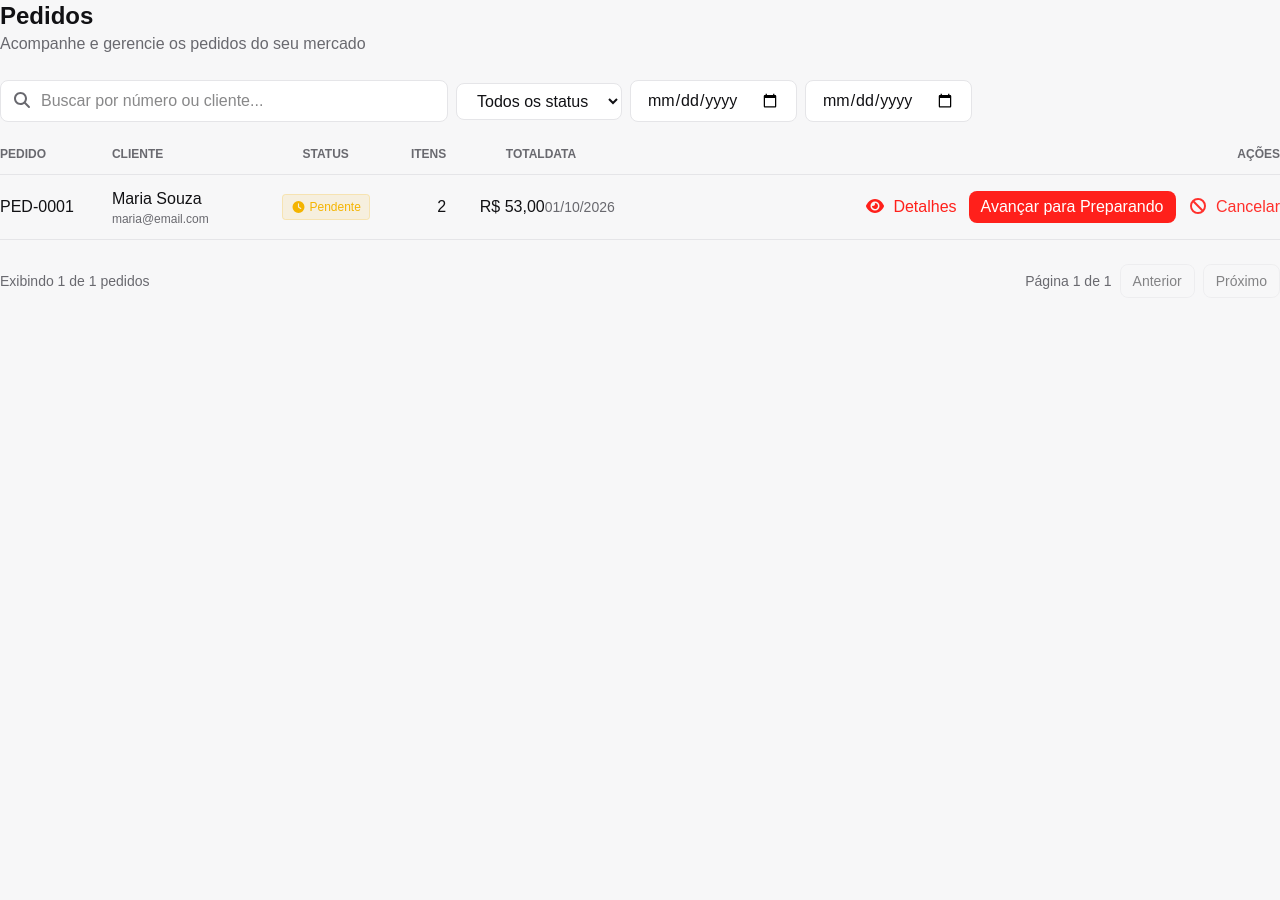
Scenario: OrdersPage — detalhe do pedido › abre o detalhe pelo identificador ao clicar em Detalhes
Expected: the button "PED-0001" is shown, [0, 195, 74, 219]
Click the button with aria-label "Detalhes do pedido PED-0001". click: x=911, y=207
box: [865, 195, 957, 219]
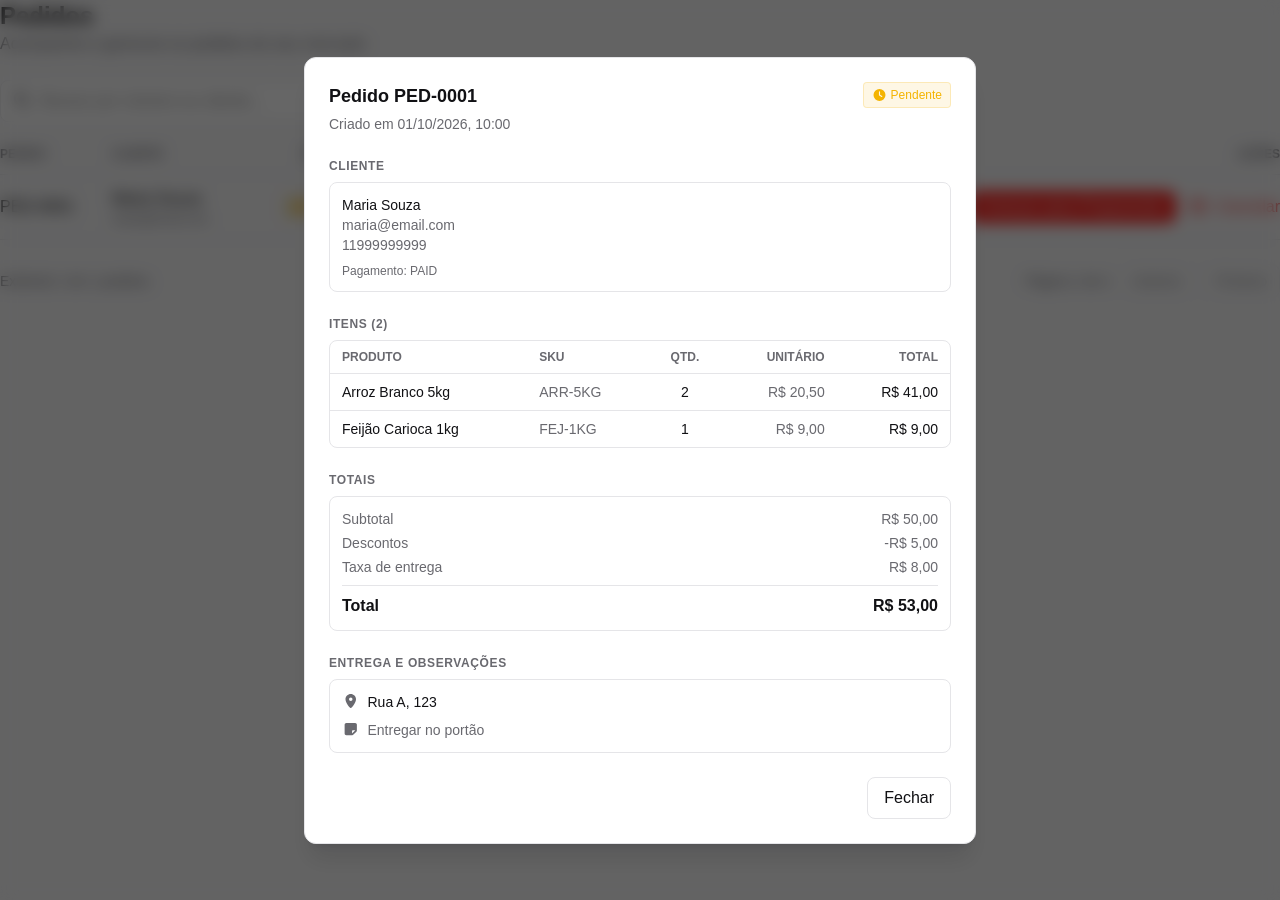
Expected: the dialog is shown, [304, 56, 976, 844]
